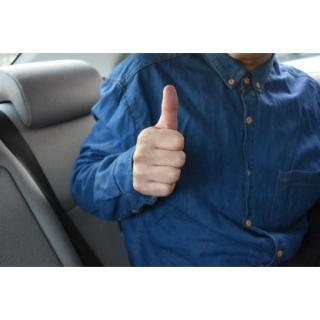ALIF: (128, 82, 191, 204)
